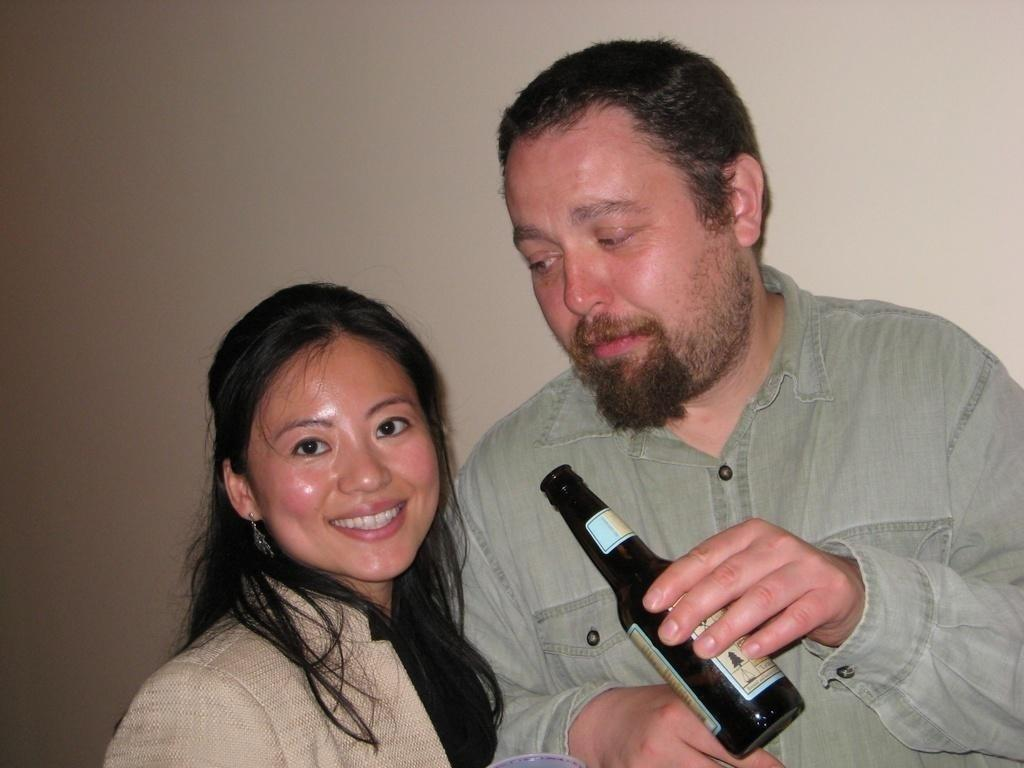bottle-glass: (537, 466, 808, 761)
